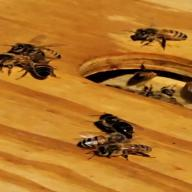Bee: (121, 25, 192, 45), (71, 129, 130, 150), (4, 40, 68, 59), (92, 142, 155, 160)
